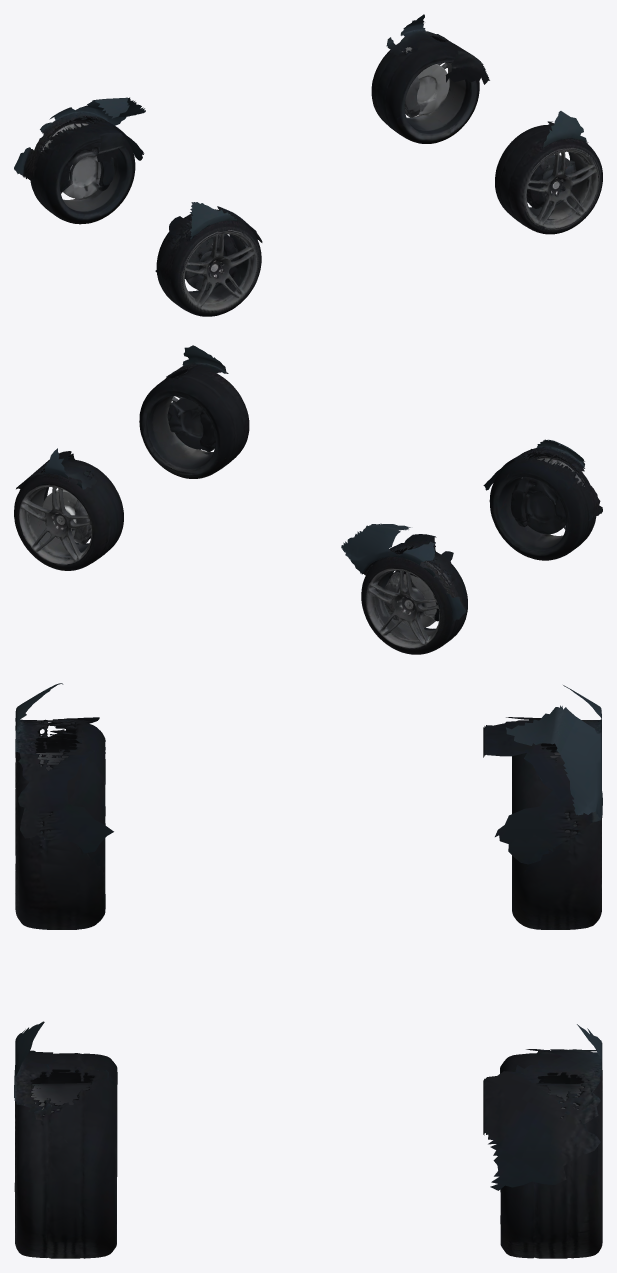
Rendered from neon-coupe-wheels-r55-2241bd8908d5.glb.
3 views of the same model, one above another, from view 1: azimuth 30°, elevation 25°; view 2: azimuth 150°, elevation 25°; view 3: azimuth 270°, elevation 25° (orthographic). The views are drawn at different scales.
Size of the model in its own units: 1.49 by 0.3748 by 0.8563.
1 material, 1 textured.
